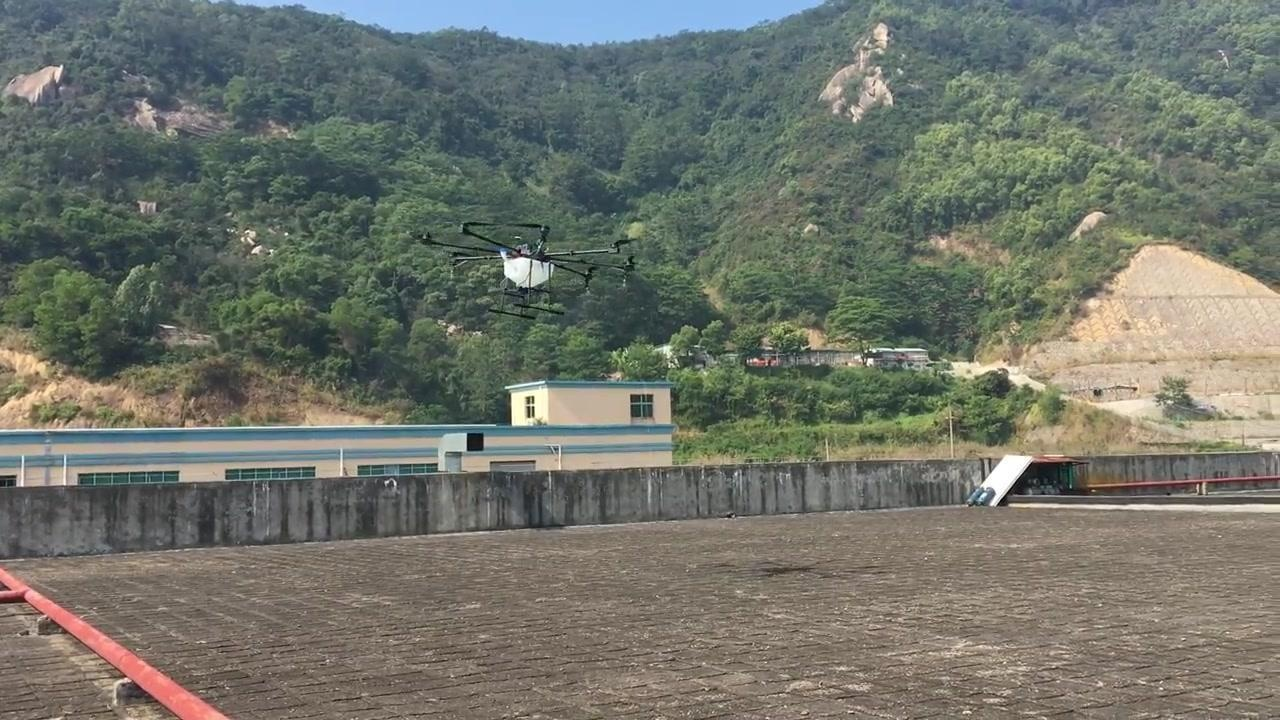UAV: (418, 222, 638, 321)
